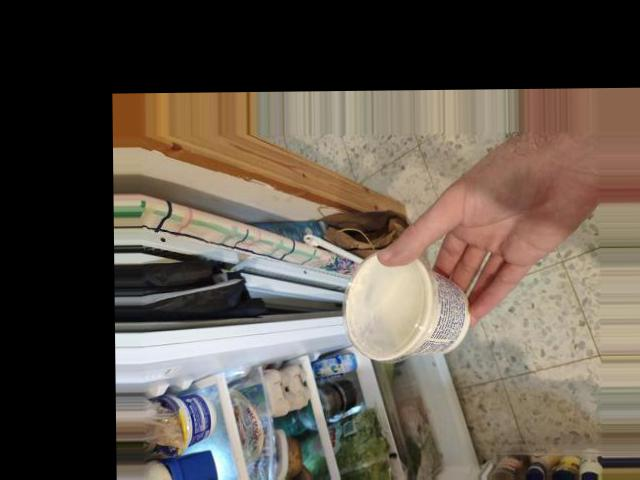cotage: (350, 254, 471, 354)
